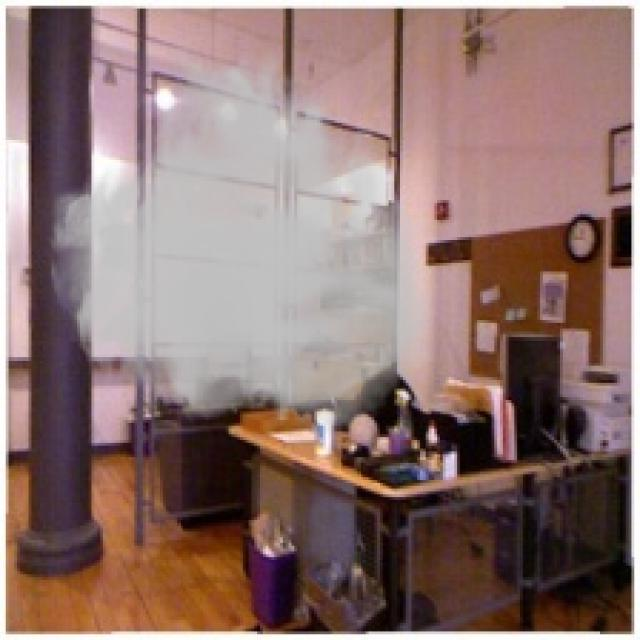smoke: (46, 37, 437, 440)
